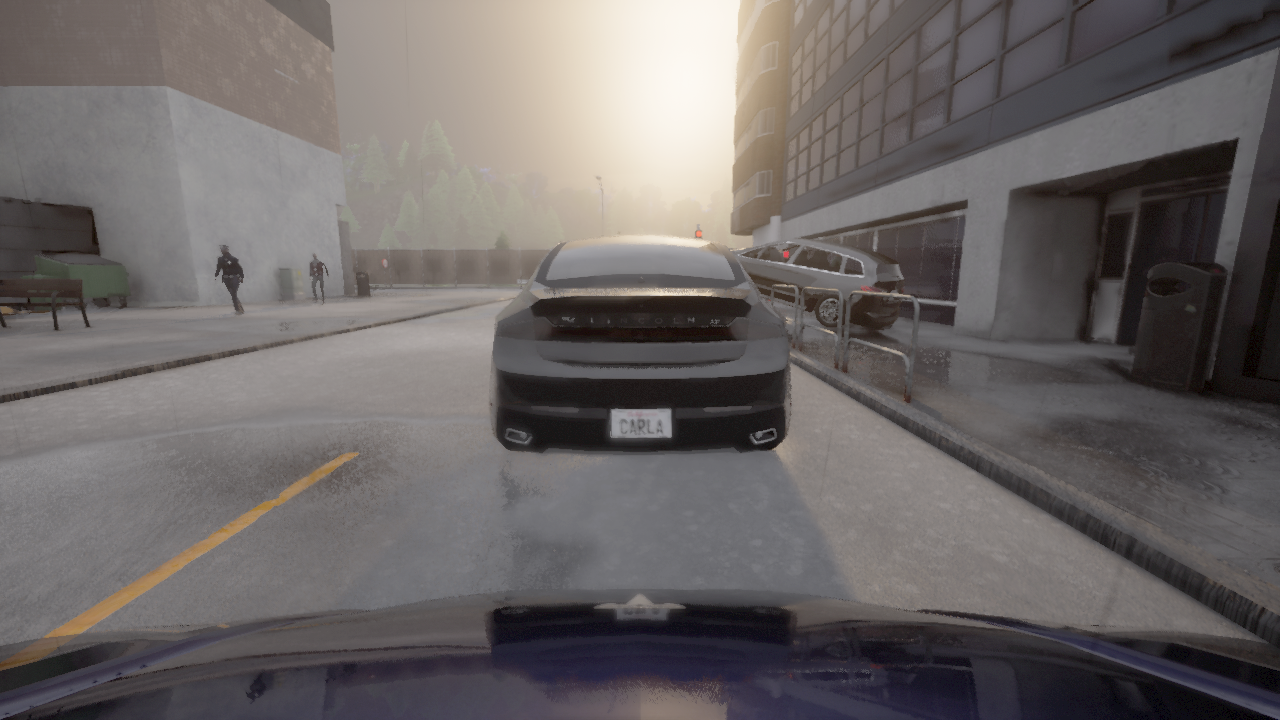cyclist: (0, 588, 1279, 719), (490, 234, 791, 455), (730, 238, 904, 327)
pedestrian: (214, 244, 244, 315), (309, 252, 330, 304)
